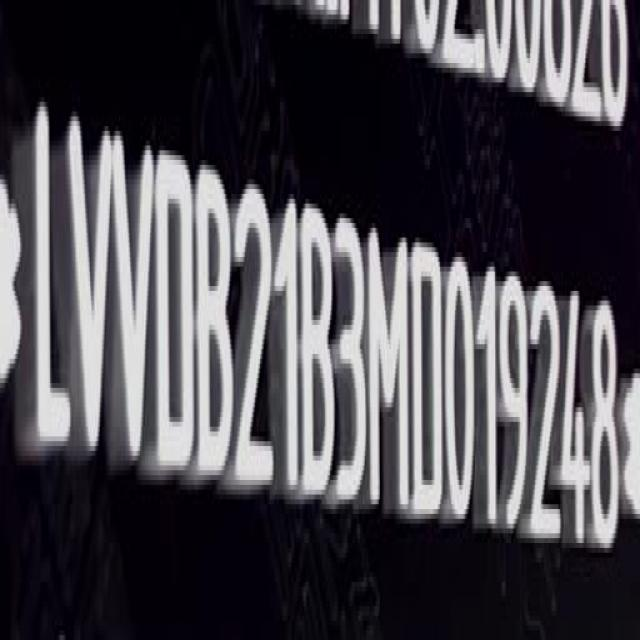0: (446, 247, 476, 534)
1: (278, 186, 300, 500), (476, 258, 496, 540)
2: (236, 180, 277, 501), (529, 272, 561, 546)
3: (335, 197, 367, 524)
4: (560, 290, 592, 550)
8: (591, 288, 621, 549)
9: (500, 264, 527, 544)
B: (197, 160, 236, 494), (300, 193, 335, 502)
D: (154, 144, 193, 489), (413, 237, 444, 526)
L: (35, 106, 75, 465)
M: (372, 221, 414, 523)
V: (71, 116, 115, 471), (112, 127, 154, 480)
